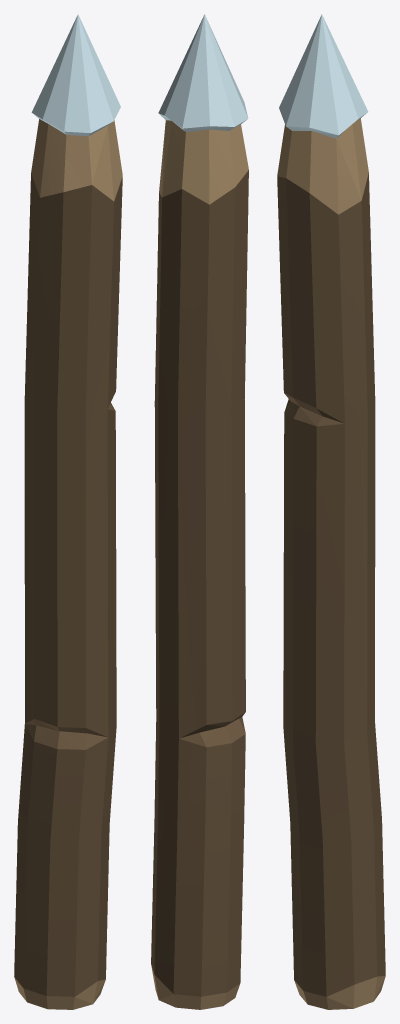
File: Estaca01.glb
The picture shows the model from 3 angles, left to right: view 1: azimuth 90°, elevation 25°; view 2: azimuth 150°, elevation 25°; view 3: azimuth 270°, elevation 25°; orthographic projection.
Visible parts, largest first — view 1: SM_Prop_Wood_Sharp_01_Snow; view 2: SM_Prop_Wood_Sharp_01_Snow; view 3: SM_Prop_Wood_Sharp_01_Snow.
Part boxes in pixels (box(x1,y1,x2,y2)): SM_Prop_Wood_Sharp_01_Snow: box(14, 14, 122, 1009); SM_Prop_Wood_Sharp_01_Snow: box(151, 14, 248, 1009); SM_Prop_Wood_Sharp_01_Snow: box(277, 14, 385, 1009).
Bounding box in the file's own units: 0.3155 × 3.78 × 0.3769.
1 material, 1 textured.
